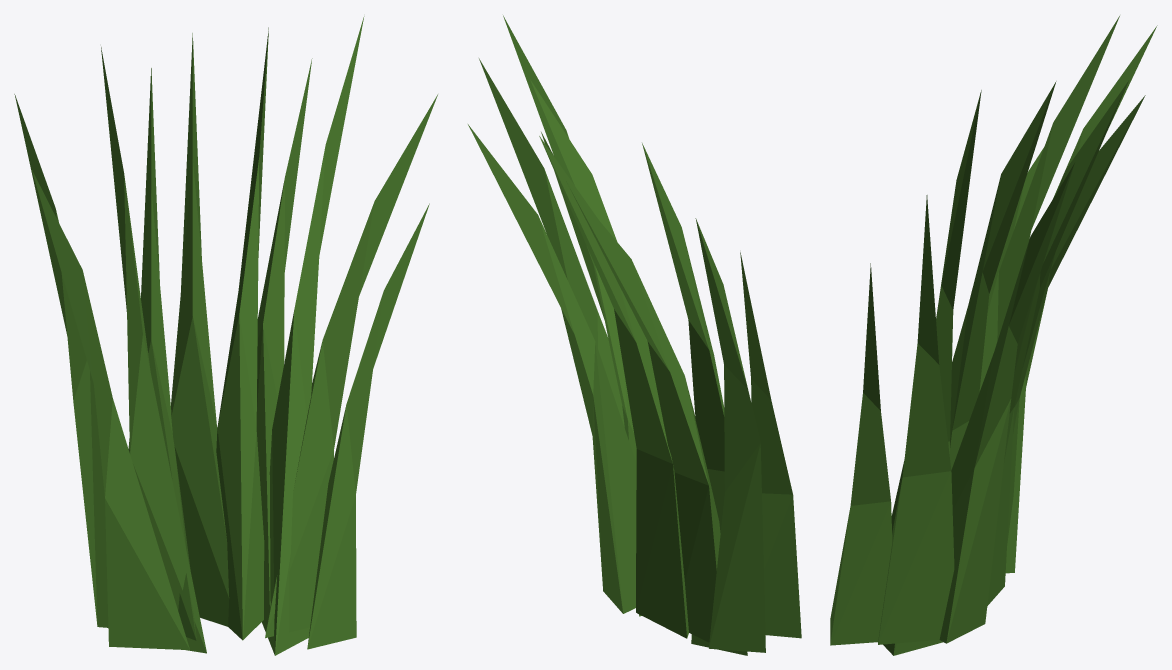
Rendered from grass1.fbx.
3 renders of one model, left to right at view 1: azimuth 30°, elevation 25°; view 2: azimuth 150°, elevation 25°; view 3: azimuth 270°, elevation 25°, orthographic. The views are drawn at different scales.
Parts seen in each view (by area): view 1: Group9, Group11, Group5, Group2, Group6, Group12, Group3, Group4, Group10, Group8; view 2: Group9, Group10, Group4, Group8, Group11, Group12, Group2, Group6, Group5, Group3; view 3: Group2, Group4, Group3, Group5, Group12, Group9, Group6, Group8, Group10, Group11.
Part boxes in pixels (box(x1,y1,x2,y2)): Group9: box(171, 33, 229, 626); Group11: box(31, 169, 189, 650); Group5: box(216, 27, 268, 640); Group2: box(265, 94, 437, 638); Group6: box(262, 16, 364, 655); Group12: box(101, 47, 206, 653); Group3: box(307, 203, 429, 649); Group4: box(256, 58, 312, 623); Group10: box(14, 94, 108, 627); Group8: box(128, 68, 196, 640); Group9: box(539, 136, 688, 638); Group10: box(695, 218, 765, 652); Group4: box(468, 124, 636, 613); Group8: box(566, 181, 720, 642); Group11: box(740, 252, 801, 638); Group12: box(642, 143, 747, 655); Group2: box(479, 58, 624, 427); Group6: box(503, 15, 641, 616); Group5: box(530, 79, 647, 343); Group3: box(541, 132, 604, 319); Group2: box(878, 195, 954, 644); Group4: box(939, 163, 1074, 643); Group3: box(830, 263, 892, 645); Group5: box(950, 81, 1056, 469); Group12: box(979, 16, 1119, 391); Group9: box(987, 80, 1128, 605); Group6: box(883, 90, 981, 655); Group8: box(1007, 95, 1145, 545); Group10: box(1005, 25, 1157, 573); Group11: box(987, 147, 1044, 312).
Size of the model in its own units: 3 by 4.92 by 2.38.
